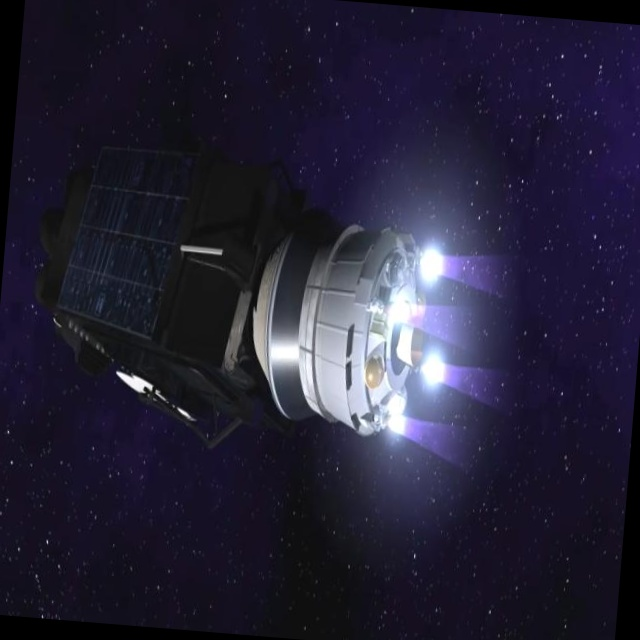medium_debris: (18, 175, 483, 480)
